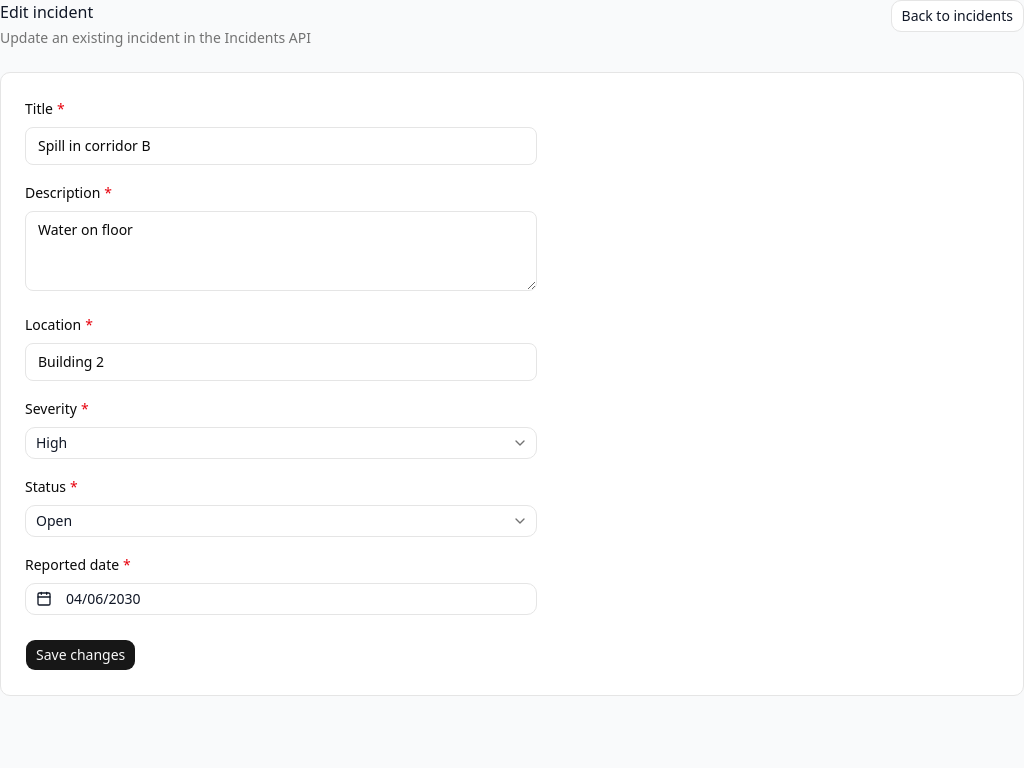
Test case: IncidentForm › shows an inline error alert and does not navigate when updateIncident rejects with a network error
The image size is (1024, 768).
Expected: the field showing "Spill in corridor B" is shown, [25,127,537,165]
Click the button "Save changes" at (81, 655), box [25,639,136,671]
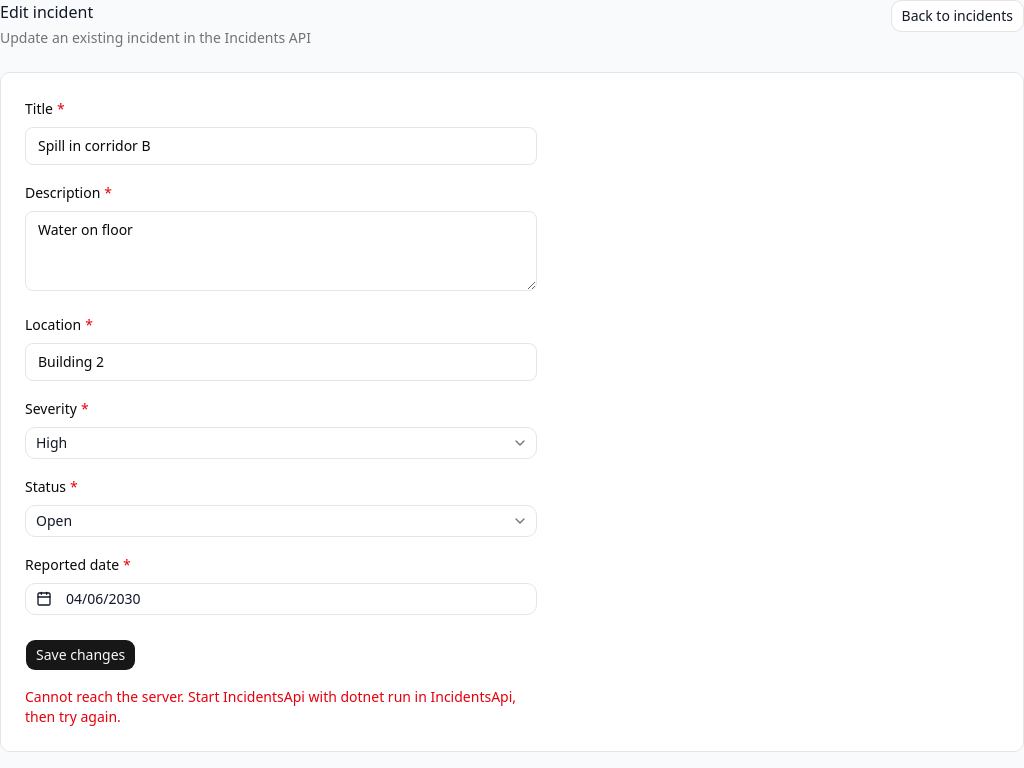
Expected: the message is shown, [25,687,537,727]
